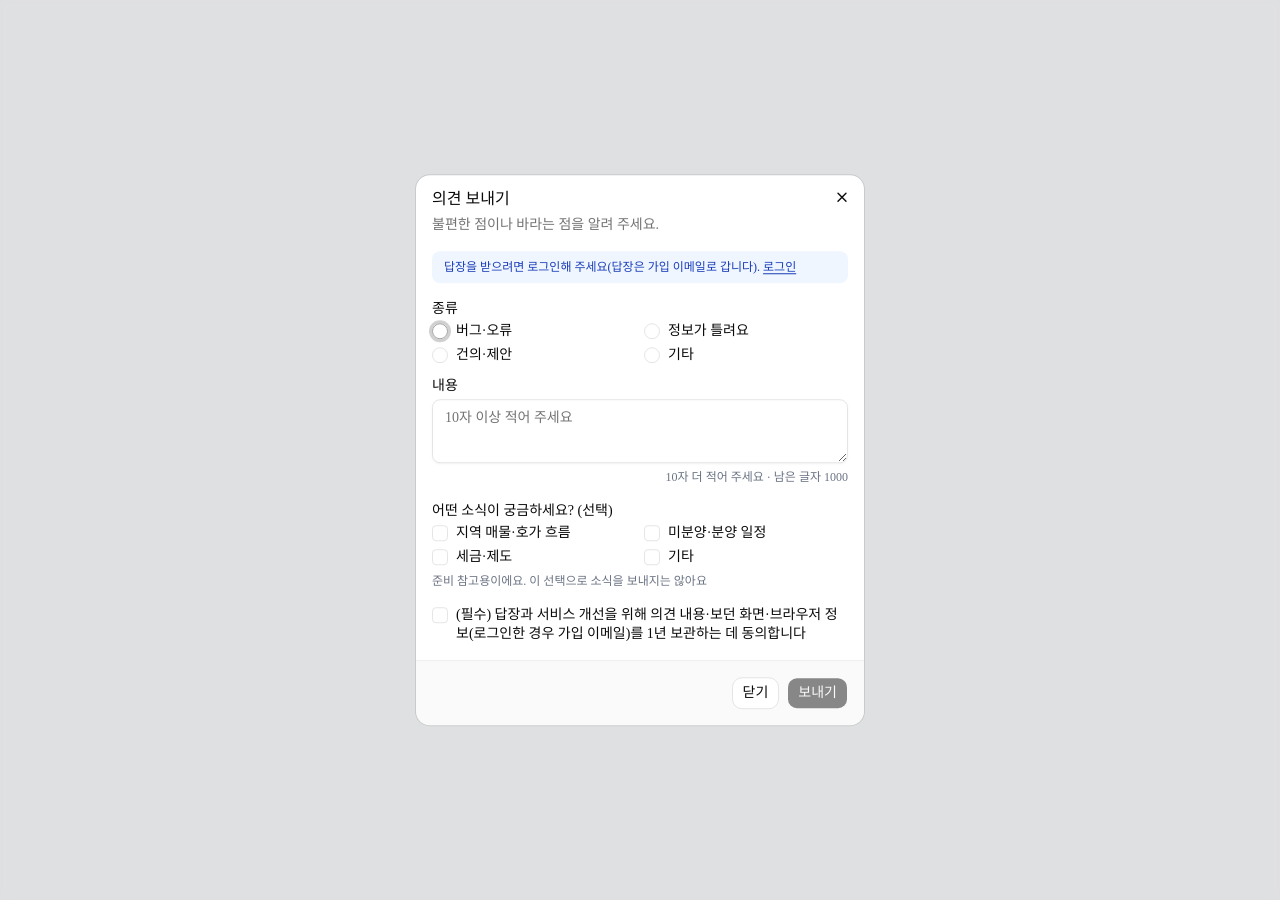
Test: OpinionDialog — 열기와 입력 조건 › 9자면 보내기 비활성, 10자가 되면 활성
Click the radio button named "버그·오류" next to "버그·오류" at (440,331), box [432,323,448,339]
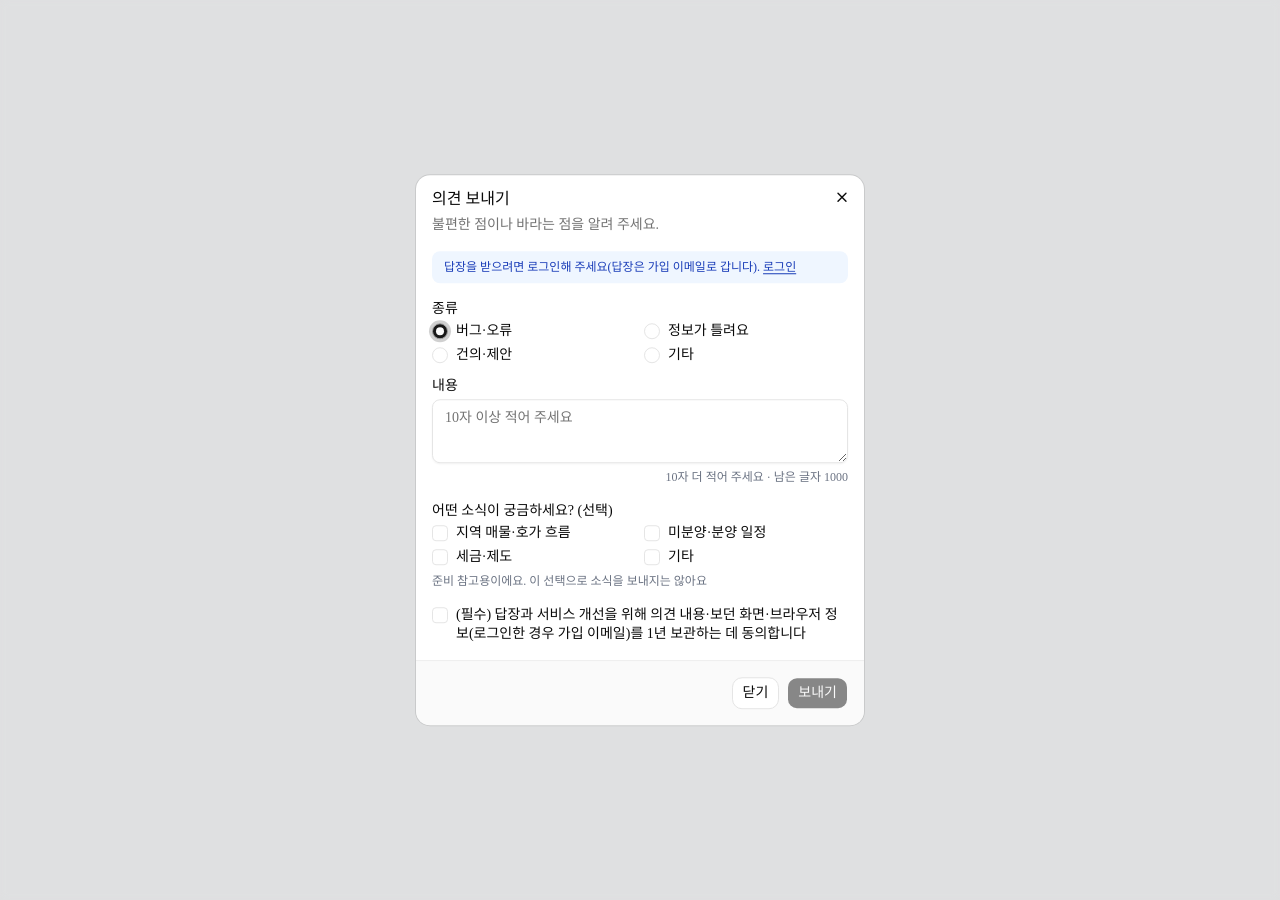
Type "가나다라마바사아자" into the text box labelled "내용" at (640,431), box [432,399,848,463]
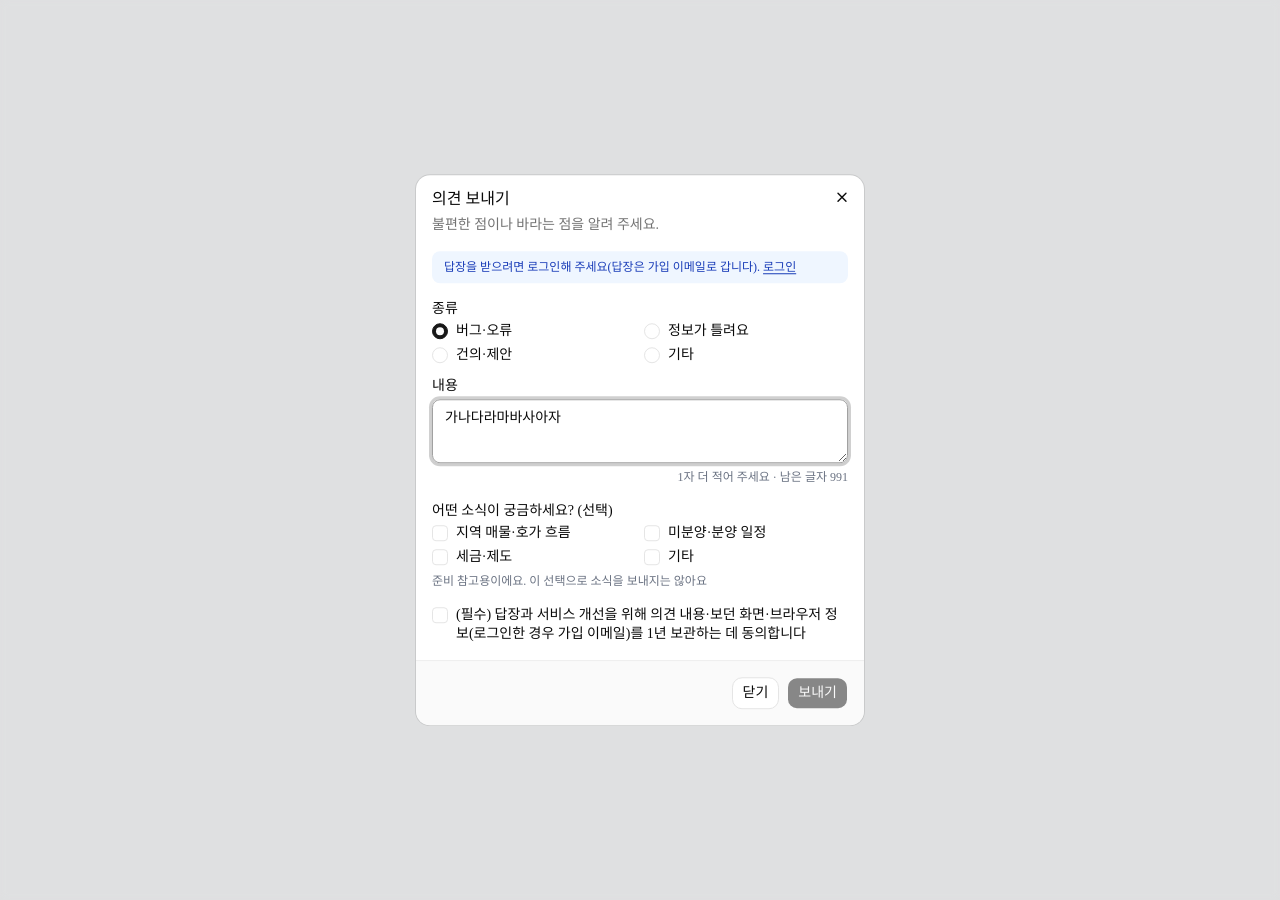
Click the 5th checkbox named "1년 보관하는 데 동의합니다" at (440,615), box [432,607,448,623]
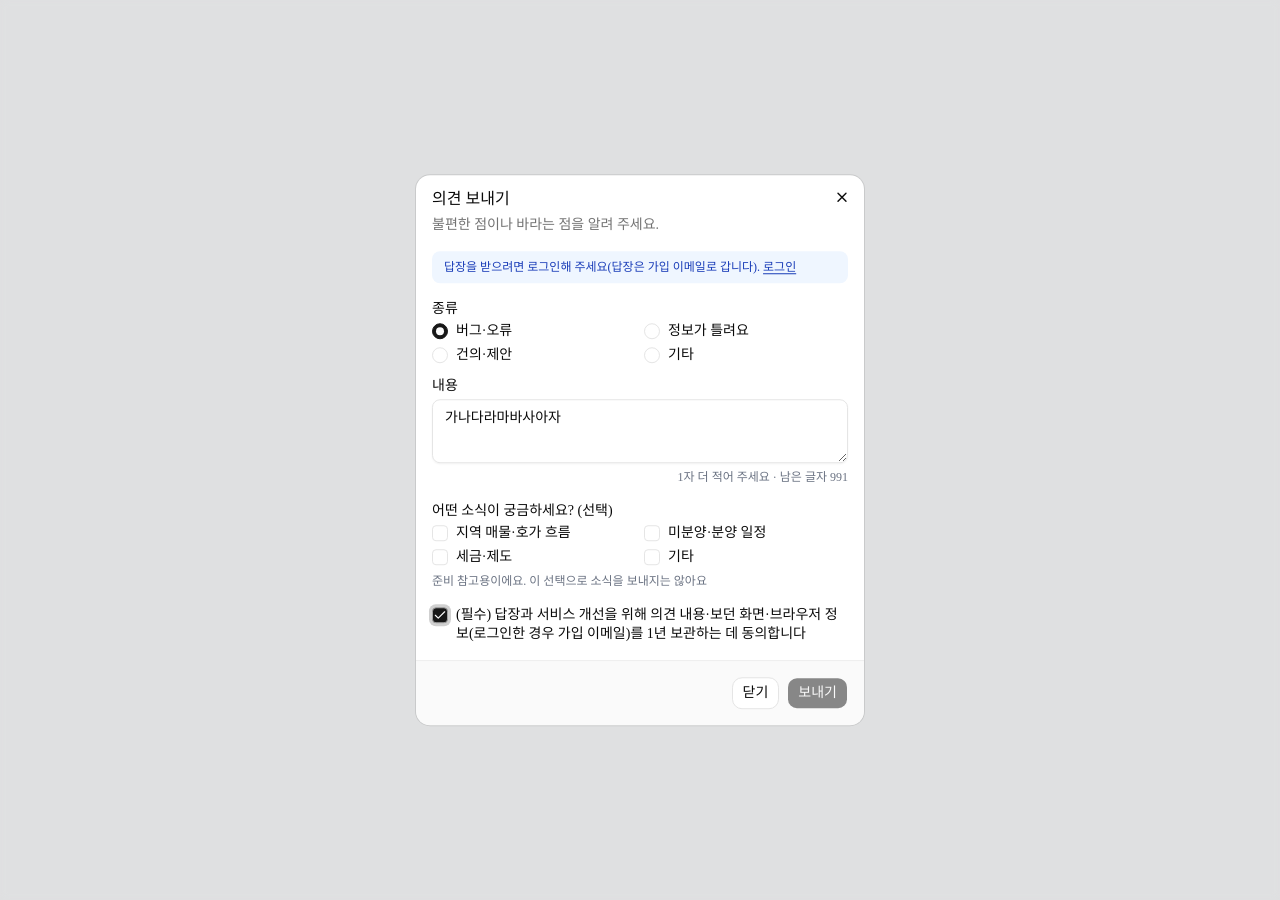
Expected: the button with test id "opinion-submit" is disabled, [787,677,848,709]
Type "차" into the text box labelled "내용" at (640,431), box [432,399,848,463]
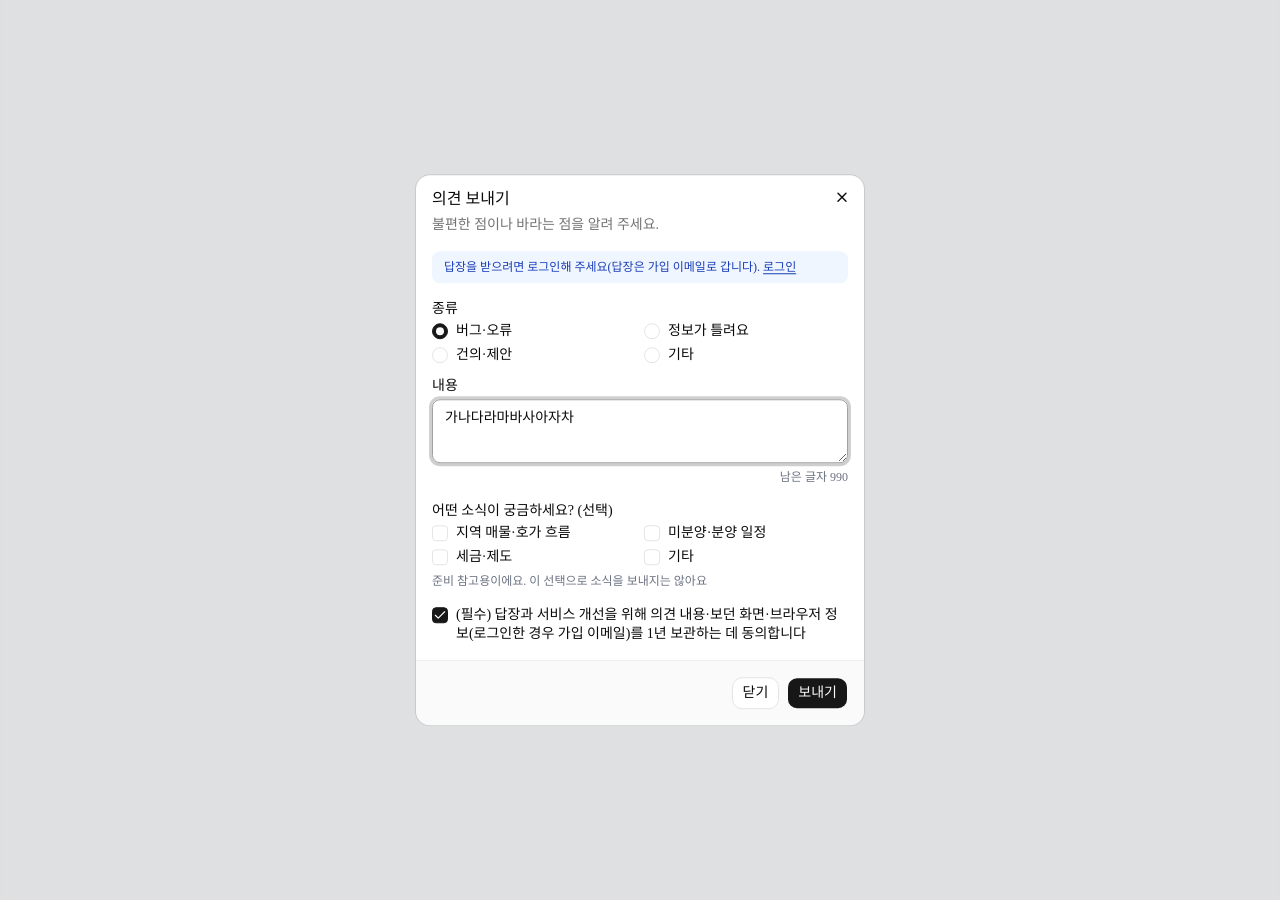
Now the button with test id "opinion-submit" is enabled, box [787,677,848,709]
